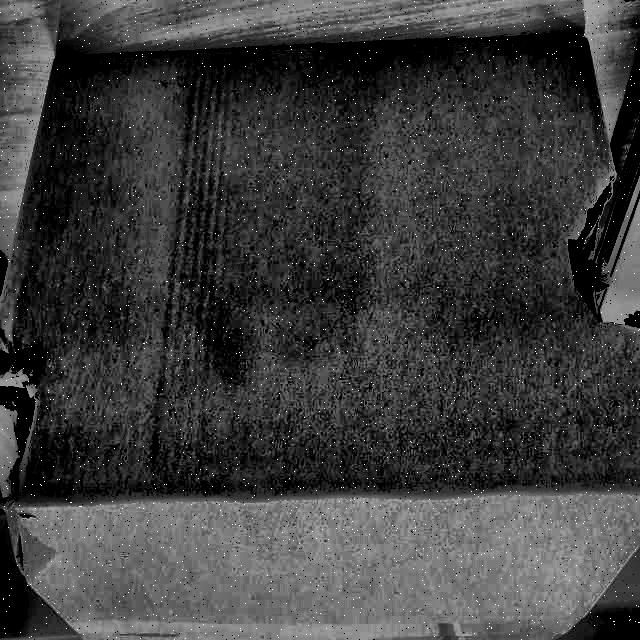box: (1, 23, 640, 640)
hole: (560, 170, 632, 338), (0, 319, 41, 586)
